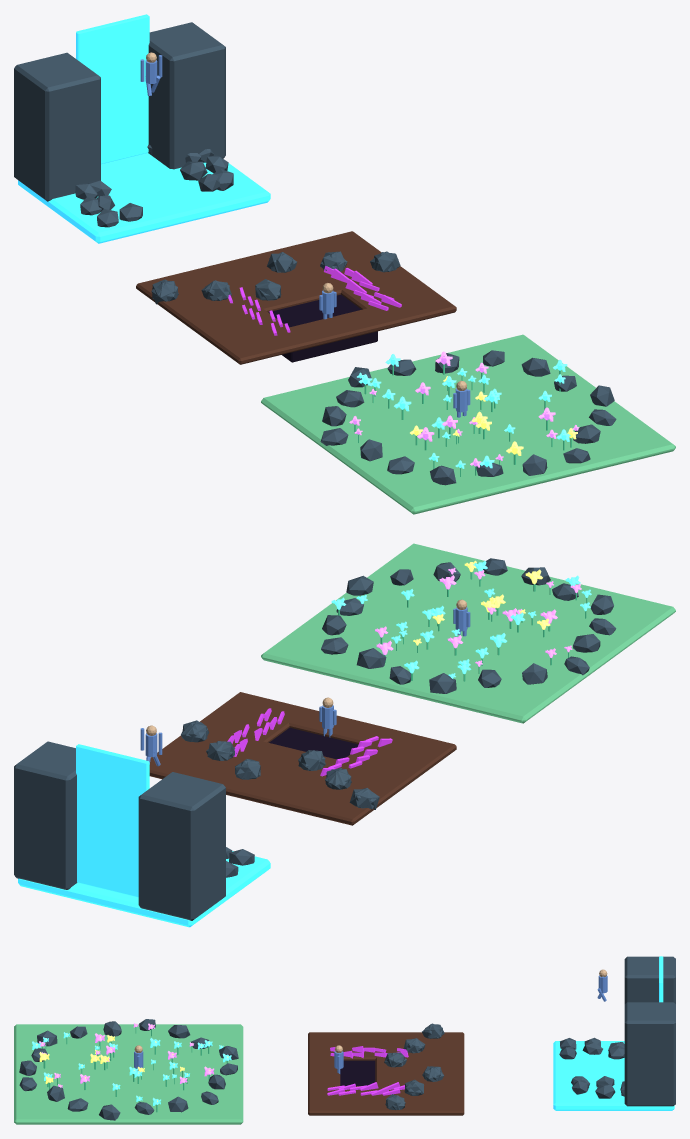
The model's file is intro_cinematic.glb.
The picture shows the model from 3 angles, top to bottom: view 1: azimuth 30°, elevation 25°; view 2: azimuth 150°, elevation 25°; view 3: azimuth 270°, elevation 25°; orthographic projection. The views are drawn at different scales.
Visible parts, largest first — view 1: Flower_Glade_Ground, Waterfall_Left_Cliff, Waterfall_Right_Cliff, Waterfall_Pool, Rift_Back_Ledge, Waterfall_Curtain, Rift_Front_Ledge, Rift_Left_Ledge, Rift_Abyss, Rift_Right_Ledge; view 2: Flower_Glade_Ground, Waterfall_Left_Cliff, Rift_Back_Ledge, Waterfall_Curtain, Waterfall_Right_Cliff, Rift_Front_Ledge, Waterfall_Pool, Rift_Right_Ledge, Rift_Left_Ledge, Rift_Abyss; view 3: Flower_Glade_Ground, Rift_Back_Ledge, Waterfall_Right_Cliff, Waterfall_Pool, Waterfall_Left_Cliff, Rift_Front_Ledge, Rift_Left_Ledge, Rift_Right_Ledge, Rift_Abyss.
Boxes of the visible parts, bbox=[...] form: Flower_Glade_Ground: bbox=[261, 334, 675, 514]; Waterfall_Left_Cliff: bbox=[14, 52, 100, 201]; Waterfall_Right_Cliff: bbox=[148, 22, 225, 169]; Waterfall_Pool: bbox=[18, 153, 270, 243]; Rift_Back_Ledge: bbox=[136, 231, 405, 330]; Waterfall_Curtain: bbox=[76, 14, 149, 164]; Rift_Front_Ledge: bbox=[219, 292, 456, 364]; Rift_Left_Ledge: bbox=[185, 302, 299, 352]; Rift_Abyss: bbox=[268, 294, 377, 362]; Rift_Right_Ledge: bbox=[333, 266, 446, 309]; Flower_Glade_Ground: bbox=[261, 543, 675, 723]; Waterfall_Left_Cliff: bbox=[138, 772, 225, 920]; Rift_Back_Ledge: bbox=[149, 728, 410, 825]; Waterfall_Curtain: bbox=[76, 744, 149, 897]; Waterfall_Right_Cliff: bbox=[14, 741, 77, 889]; Rift_Front_Ledge: bbox=[232, 692, 456, 763]; Waterfall_Pool: bbox=[18, 851, 270, 927]; Rift_Right_Ledge: bbox=[199, 698, 289, 746]; Rift_Left_Ledge: bbox=[347, 743, 448, 788]; Rift_Abyss: bbox=[269, 727, 358, 759]; Flower_Glade_Ground: bbox=[14, 1024, 243, 1124]; Rift_Back_Ledge: bbox=[375, 1032, 464, 1115]; Waterfall_Right_Cliff: bbox=[624, 1002, 675, 1106]; Waterfall_Pool: bbox=[553, 1041, 674, 1110]; Waterfall_Left_Cliff: bbox=[624, 956, 675, 1003]; Rift_Front_Ledge: bbox=[308, 1032, 340, 1115]; Rift_Left_Ledge: bbox=[321, 1032, 391, 1060]; Rift_Right_Ledge: bbox=[321, 1086, 391, 1115]; Rift_Abyss: bbox=[340, 1060, 375, 1085].
Size of the model in its own units: 17.09 by 10.2 by 49.1.
